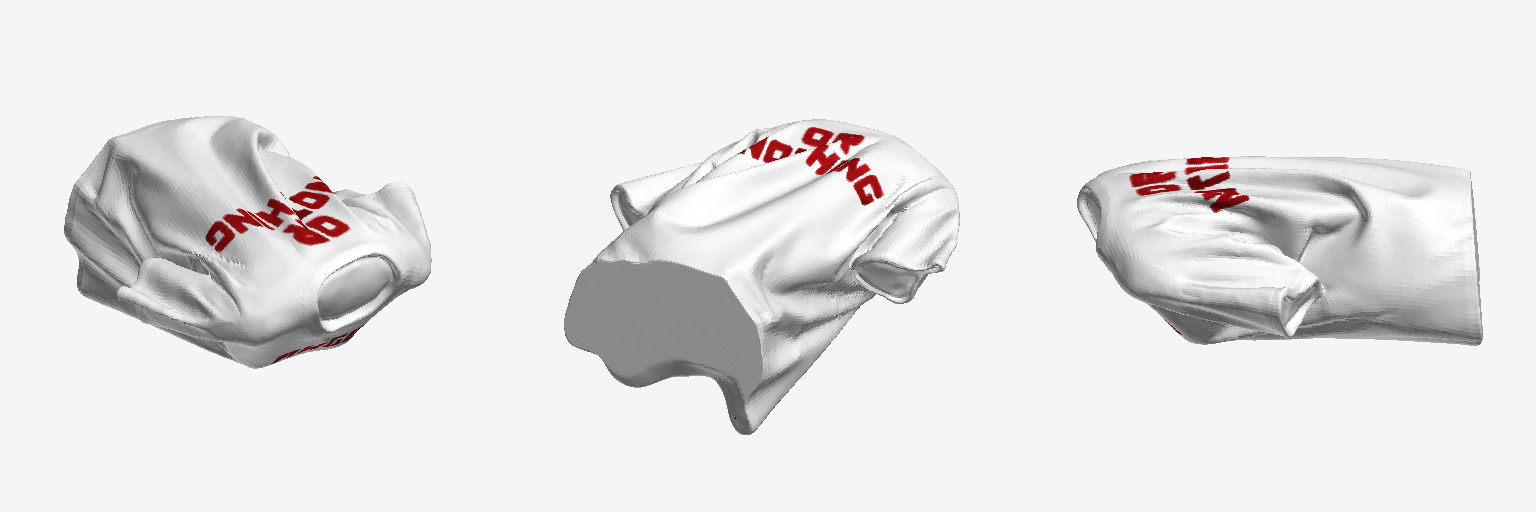
3 renders of one model, left to right at view 1: azimuth 30°, elevation 25°; view 2: azimuth 150°, elevation 25°; view 3: azimuth 270°, elevation 25°, orthographic.
Visible parts, largest first — view 1: Object.1; view 2: Object.1; view 3: Object.1.
Boxes of the visible parts, <box> form: Object.1: <box>64,116,431,368</box>; Object.1: <box>564,119,959,434</box>; Object.1: <box>1077,156,1482,345</box>.
Bounding box in the file's own units: 15.7 × 8.78 × 17.47.
Materials: 1 (1 with a texture image).